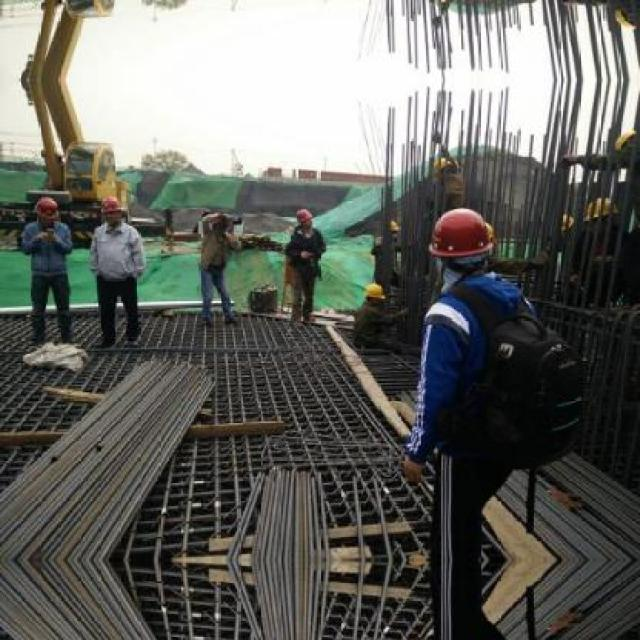helmet: (422, 202, 502, 281), (585, 196, 618, 238), (33, 190, 62, 228), (101, 191, 124, 227), (360, 278, 385, 310), (432, 154, 454, 183), (294, 204, 315, 233), (432, 0, 456, 6)
